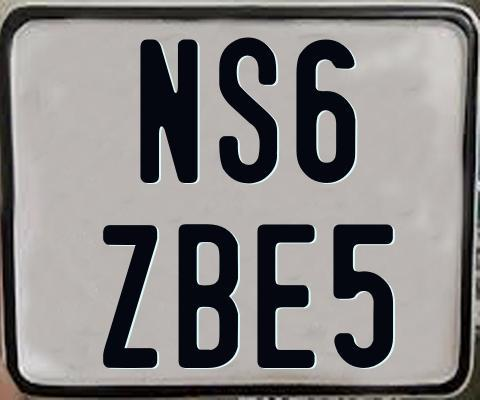5: (331, 223, 394, 373)
6: (296, 38, 359, 188)
B: (177, 223, 242, 369)
E: (255, 222, 318, 367)
N: (137, 38, 201, 182)
S: (219, 37, 278, 188)
Z: (102, 222, 157, 369)
